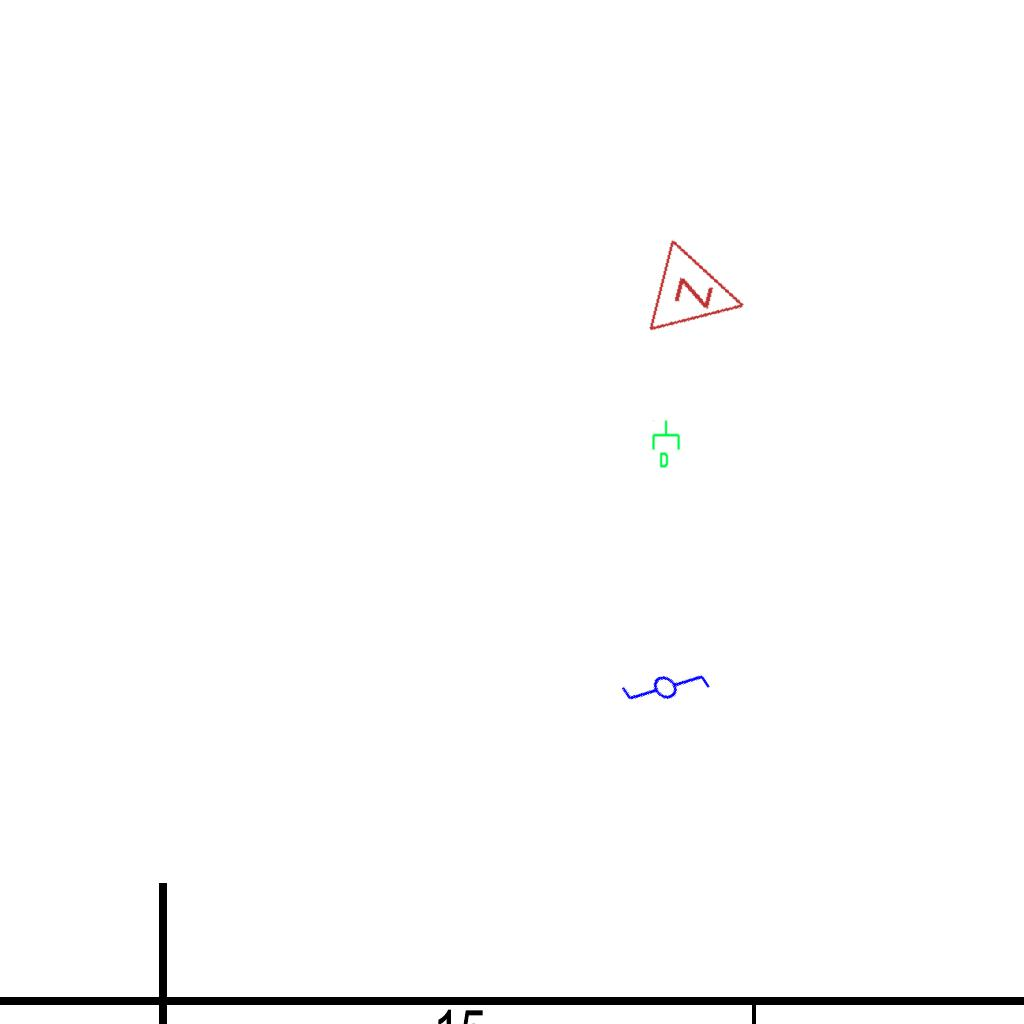Datenanschluss_einfach: (650, 419, 684, 469)
Wechselschalter: (609, 631, 717, 737)
Zimmersignalleuchte: (641, 234, 763, 354)
